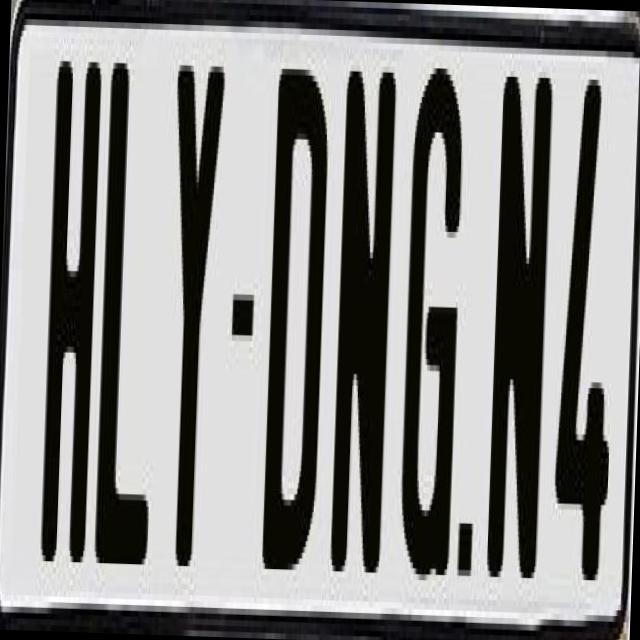4: (552, 61, 624, 581)
D: (260, 56, 332, 570)
G: (397, 49, 468, 570)
H: (34, 54, 106, 592)
L: (91, 45, 163, 553)
N: (483, 70, 557, 590), (326, 54, 392, 572)
Y: (160, 64, 232, 596)
